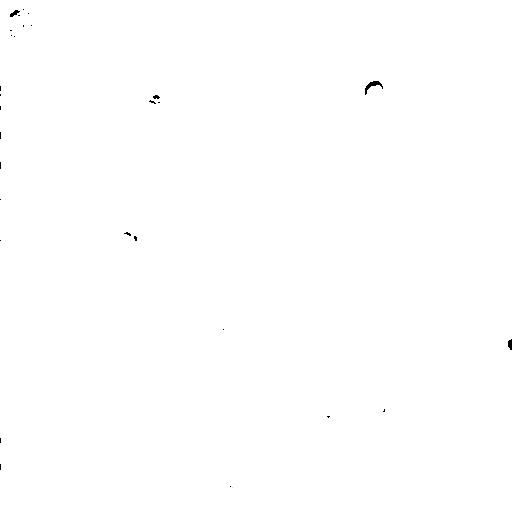micro-algae: (0, 434, 36, 470), (2, 5, 34, 39), (371, 393, 404, 424), (490, 322, 511, 365), (117, 227, 145, 252), (227, 473, 247, 495), (364, 81, 384, 101), (1, 131, 9, 163), (1, 85, 7, 107)
